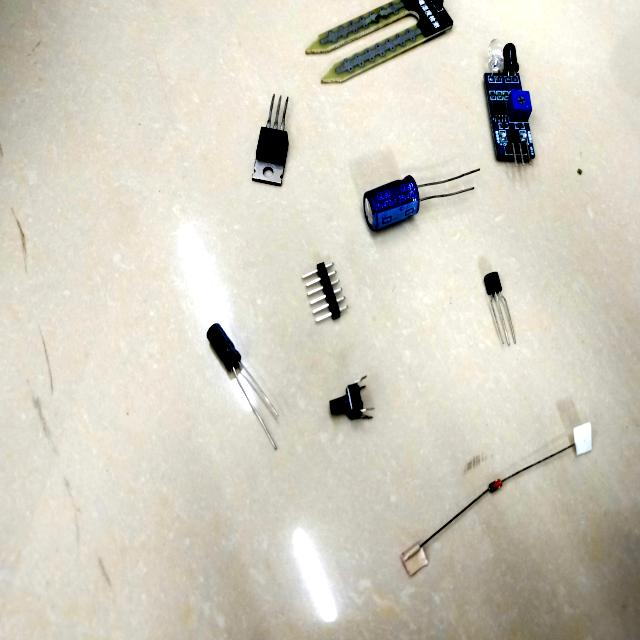BJT-Transistor: (462, 253, 528, 365)
Capacitor-10mf: (189, 294, 283, 453)
Capacitor-470mf: (334, 160, 498, 234)
IR-Sensor: (471, 26, 548, 182)
MOSFET: (236, 72, 307, 206)
Pin-Header: (282, 239, 358, 350)
Soil-Moisture-Sensor: (295, 0, 457, 102)
Tact-Switch: (317, 362, 386, 437)
Zener-Diode: (443, 454, 549, 530)
